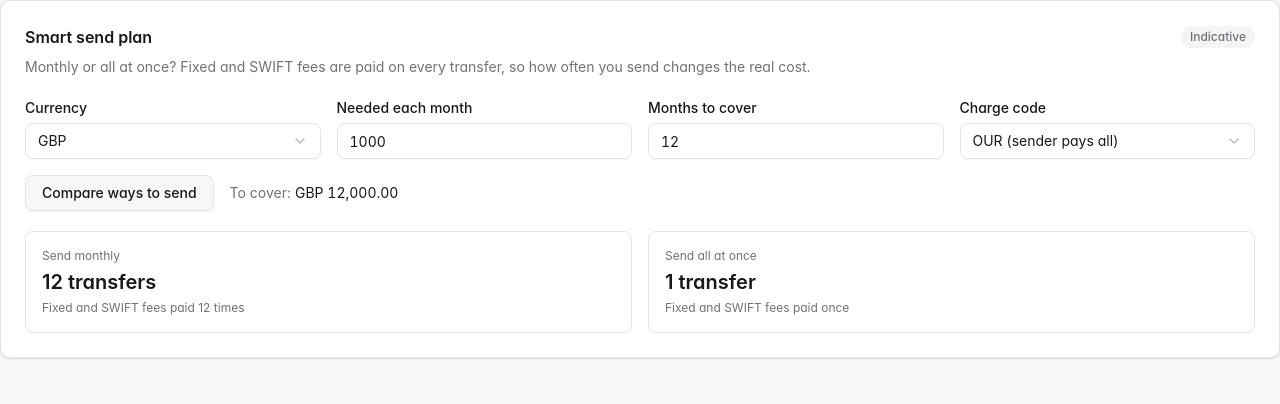
Test: SendPlanCard › rejects a months value that is not a whole number
The width and height of the screenshot is (1280, 404).
Replace the text in the field labelled "Months to cover" with "2.5". click: [796, 141]
box: [648, 123, 944, 159]
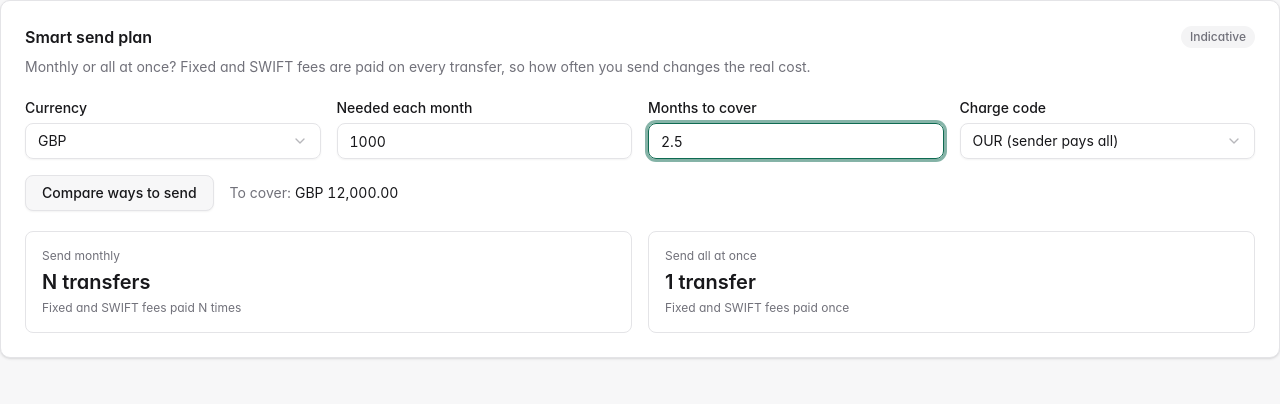
Click the button "Compare ways to send". click: [119, 193]
box: [25, 175, 214, 211]
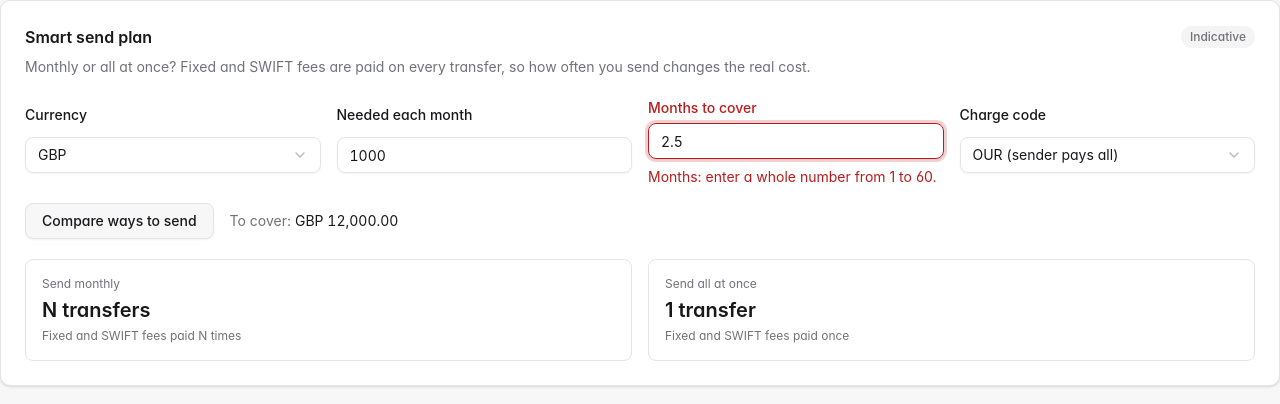
Check: the text "Months: enter a whole number from 1 to 60." is shown, box [648, 167, 944, 187]
